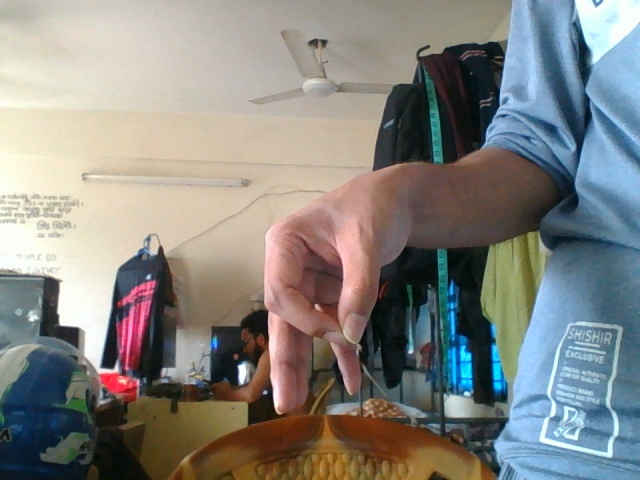pa: (255, 162, 417, 423)
